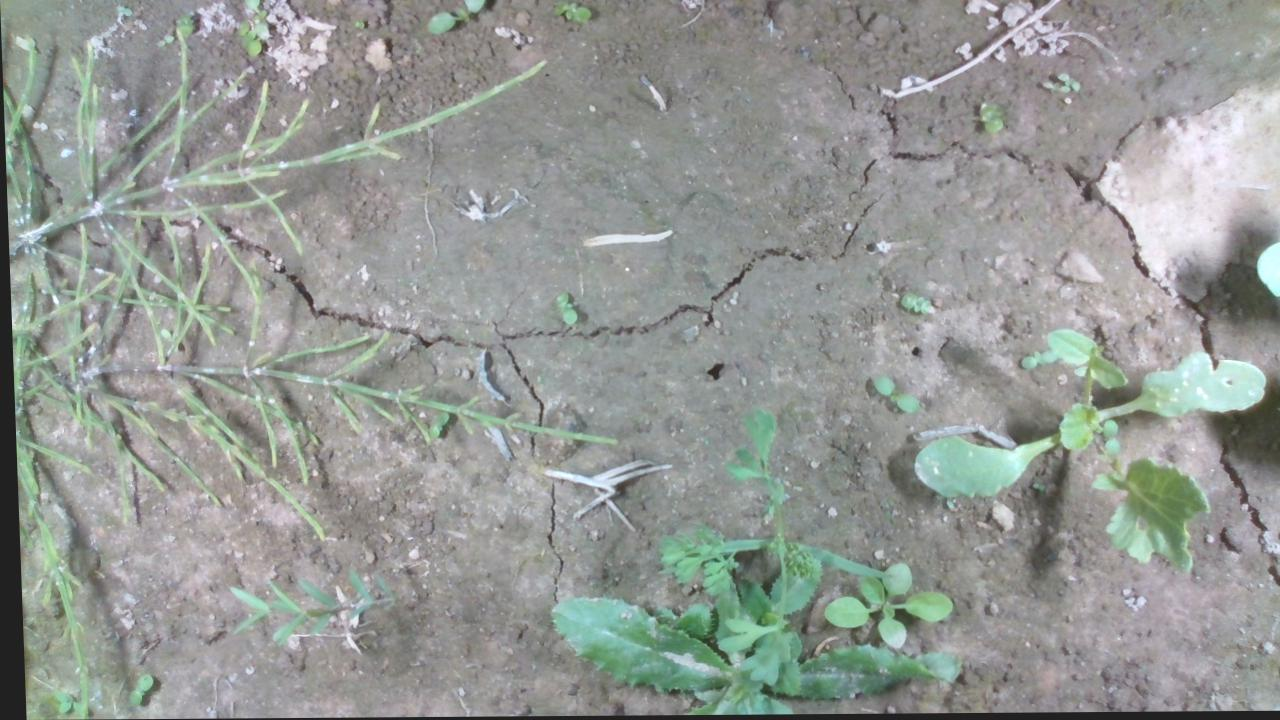weed: (864, 369, 921, 418), (537, 283, 585, 340), (551, 0, 611, 34), (1038, 69, 1089, 106), (895, 284, 936, 326), (968, 98, 1007, 139)
